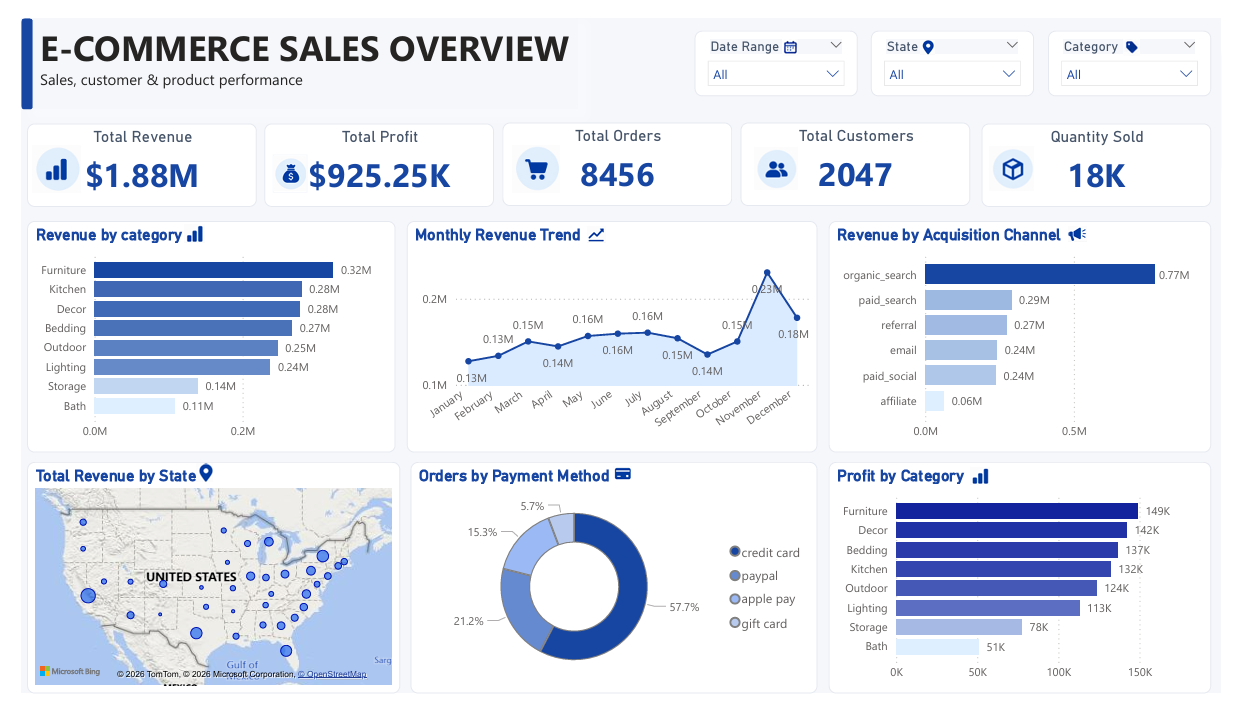

What the dashboard file says about the page in this screenshot:
{"tool":"powerbi","page":{"name":"Page 1","canvas":[1280,720],"ordinal":0},"visuals":[{"type":"lineChart","title":"Monthly Revenue Trend","fields":{"Category":["ecommerce_analysis ecommerce_master.order_date.Variation.Date Hierarchy.Month"],"Y":["ecommerce_analysis ecommerce_master.Total Revenue"]},"box":[411.4,216,437.9,247.3],"z":0},{"type":"clusteredBarChart","title":"Revenue by category","fields":{"Category":["ecommerce_analysis ecommerce_master.category"],"Y":["ecommerce_analysis ecommerce_master.Total Revenue"]},"box":[6,216,393.3,247.3],"z":1000},{"type":"clusteredBarChart","title":"Revenue by Acquisition Channel","fields":{"Category":["ecommerce_analysis ecommerce_master.acquisition_channel"],"Y":["ecommerce_analysis ecommerce_master.Total Revenue"]},"box":[861.4,216,407.8,247.3],"z":2000},{"type":"donutChart","title":"Orders by Payment Method","fields":{"Category":["ecommerce_analysis ecommerce_master.payment_method"],"Y":["Count(ecommerce_analysis ecommerce_master.order_id)"]},"box":[415,472.9,434.3,247.3],"z":3000},{"type":"map","title":"Total Revenue by State","fields":{"Category":["ecommerce_analysis ecommerce_master.state"],"Size":["ecommerce_analysis ecommerce_master.Total Revenue"]},"box":[6,472.9,398.1,247.3],"z":4000},{"type":"clusteredBarChart","title":"Profit by Category","fields":{"Category":["ecommerce_analysis ecommerce_master.category"],"Y":["ecommerce_analysis ecommerce_master.Total Profit"]},"box":[861.4,472.9,407.8,247.3],"z":5000},{"type":"textbox","box":[6,0,587.5,96.5],"z":6000},{"type":"shape","box":[0,0,12.1,96.5],"z":7000},{"type":"card","title":"Total Revenue","fields":{"Values":["ecommerce_analysis ecommerce_master.Total Revenue"]},"box":[6,112.2,244.9,89.3],"z":8000},{"type":"card","title":"Total Profit","fields":{"Values":["ecommerce_analysis ecommerce_master.Total Profit"]},"box":[259.4,112.2,244.9,89.3],"z":9000},{"type":"card","title":"Total Customers","fields":{"Values":["ecommerce_analysis ecommerce_master.Total Customers"]},"box":[767.3,111,244.9,89.3],"z":10000},{"type":"card","title":"Total Orders","fields":{"Values":["ecommerce_analysis ecommerce_master.Total Orders"]},"box":[512.7,111,244.9,89.3],"z":11000},{"type":"card","title":"Quantity Sold","fields":{"Values":["ecommerce_analysis ecommerce_master.Total Quantity Sold"]},"box":[1024.3,112.2,244.9,89.3],"z":12000},{"type":"image","box":[12.1,135.1,51.9,50.7],"z":13000},{"type":"image","box":[1032.7,135.1,47.1,50.7],"z":14000},{"type":"image","box":[267.8,144.8,37.4,41],"z":15000},{"type":"image","box":[523.6,135.1,51.9,50.7],"z":16000},{"type":"image","box":[781.8,135.1,45.8,50.7],"z":17000},{"type":"image","box":[173.7,216,21.7,27.7],"z":18000},{"type":"image","box":[604.4,217.2,18.1,26.5],"z":19000},{"type":"image","box":[1117.2,216,19.3,27.7],"z":20000},{"type":"image","box":[187,472.9,18.1,24.1],"z":21000},{"type":"image","box":[631,472.9,20.5,24.1],"z":22000},{"type":"image","box":[1012.2,472.9,20.5,31.4],"z":23000},{"type":"slicer","fields":{"Values":["Calendar.Date"]},"box":[717.8,13.3,173.7,70],"z":23003},{"type":"slicer","fields":{"Values":["ecommerce_analysis ecommerce_master.state"]},"box":[906,13.3,173.7,70],"z":23004},{"type":"slicer","fields":{"Values":["ecommerce_analysis ecommerce_master.category"]},"box":[1095.4,13.3,173.7,70],"z":23005},{"type":"image","box":[804.7,21.7,31.4,18.1],"z":23006},{"type":"image","box":[959.1,21.7,14.5,18.1],"z":23007},{"type":"image","box":[1173.9,21.7,19.3,18.1],"z":23008}]}

Visuals, with their boxes in screenshot pixels (x1, y1, x2, y2), scaled from the page's 1280x720 canvas onto the 1241x710 screenshot:
"Monthly Revenue Trend" lineChart: 399,213,823,457
"Revenue by category" clusteredBarChart: 6,213,387,457
"Revenue by Acquisition Channel" clusteredBarChart: 835,213,1231,457
"Orders by Payment Method" donutChart: 402,466,823,709
"Total Revenue by State" map: 6,466,392,709
"Profit by Category" clusteredBarChart: 835,466,1231,709
textbox: 6,0,575,95
shape: 0,0,12,95
"Total Revenue" card: 6,111,243,199
"Total Profit" card: 251,111,489,199
"Total Customers" card: 744,109,981,198
"Total Orders" card: 497,109,735,198
"Quantity Sold" card: 993,111,1231,199
image: 12,133,62,183
image: 1001,133,1047,183
image: 260,143,296,183
image: 508,133,558,183
image: 758,133,802,183
image: 168,213,189,240
image: 586,214,604,240
image: 1083,213,1102,240
image: 181,466,199,490
image: 612,466,632,490
image: 981,466,1001,497
slicer - Calendar.Date: 696,13,864,82
slicer - ecommerce_analysis ecommerce_master.state: 878,13,1047,82
slicer - ecommerce_analysis ecommerce_master.category: 1062,13,1230,82
image: 780,21,811,39
image: 930,21,944,39
image: 1138,21,1157,39
